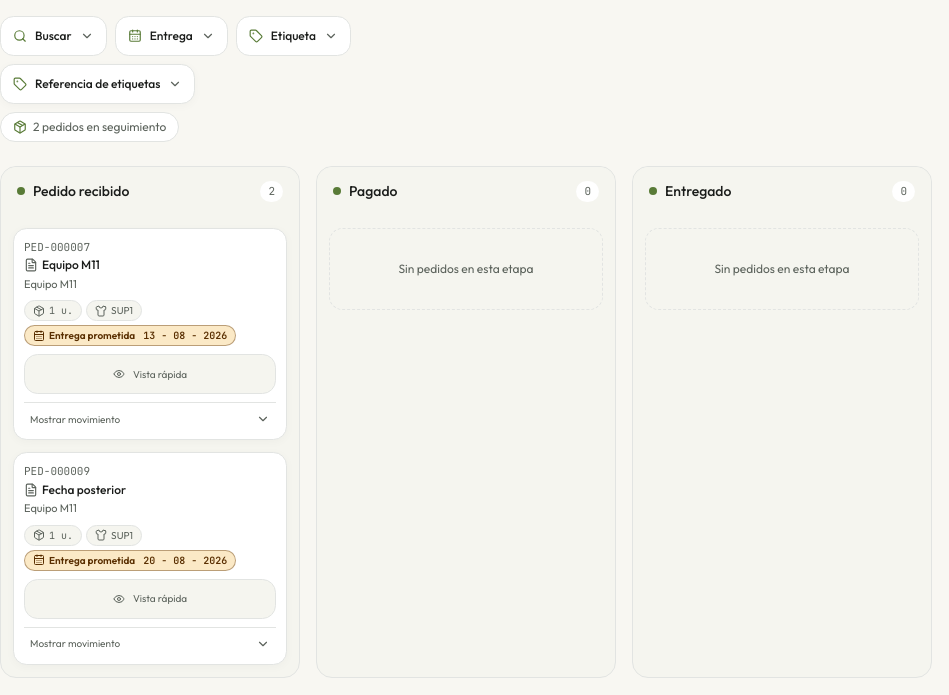
Test case: order labels › filters the board by an inclusive delivery date range
This screenshot has width=949, height=695.
Click the heading "Entrega" at (171, 36), box [115,16,228,56]
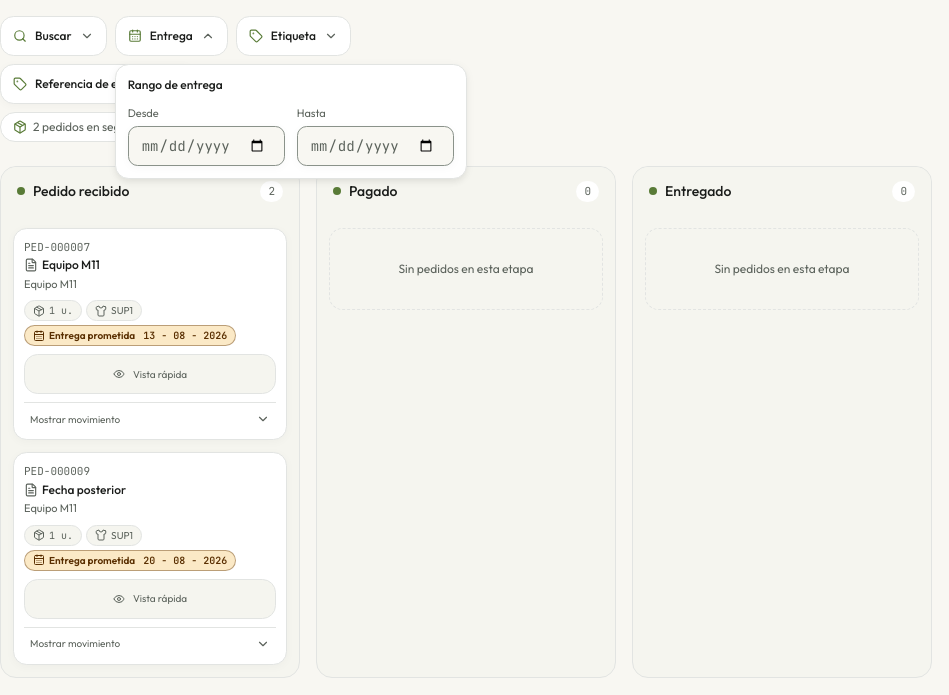
Type "2026-08-14" into the date field labelled "Desde" at (206, 146), box [128,126,285,166]
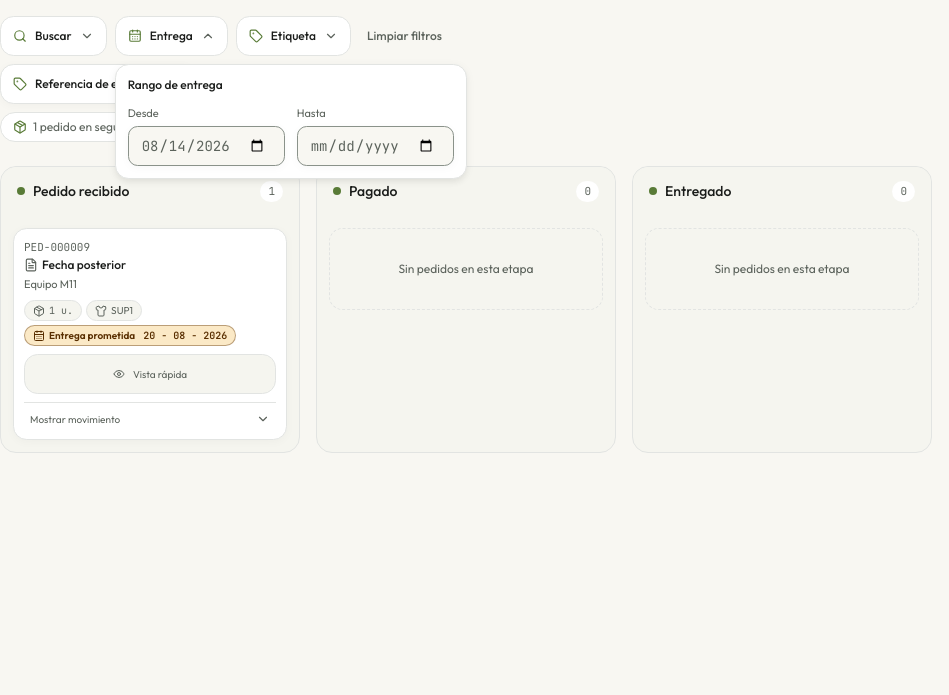
Type "2026-08-20" into the date field labelled "Hasta" at (375, 146), box [297,126,454,166]
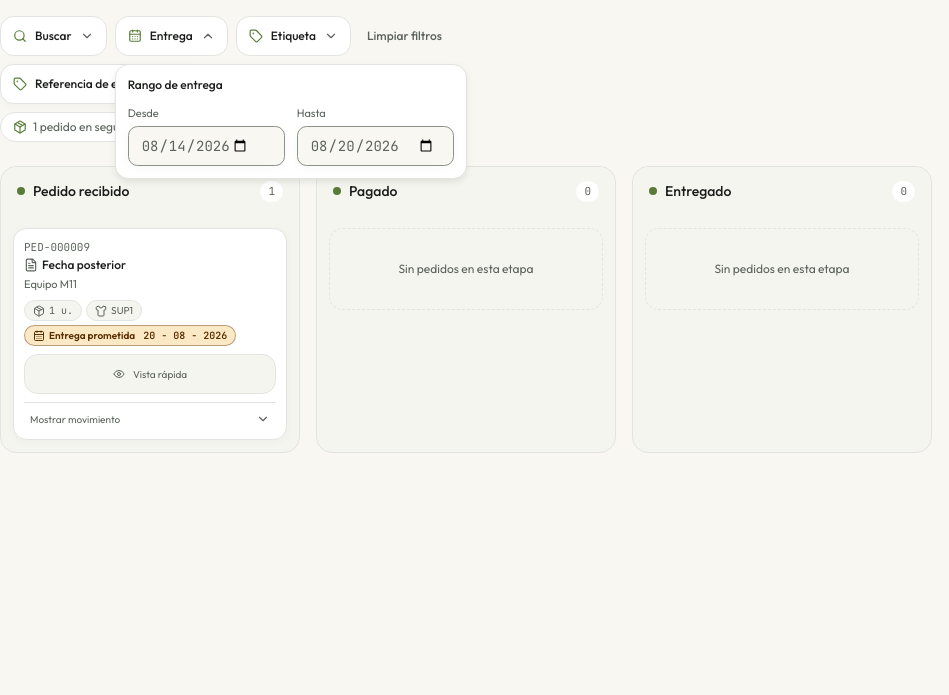
Expected: the link "Fecha posterior" is shown, [42,257,126,274]
Now the element with test id "board-count" reads "1 pedido en seguimiento", box [33,119,159,134]
Click the button "Limpiar filtros" at (404, 36), box [359,16,450,56]
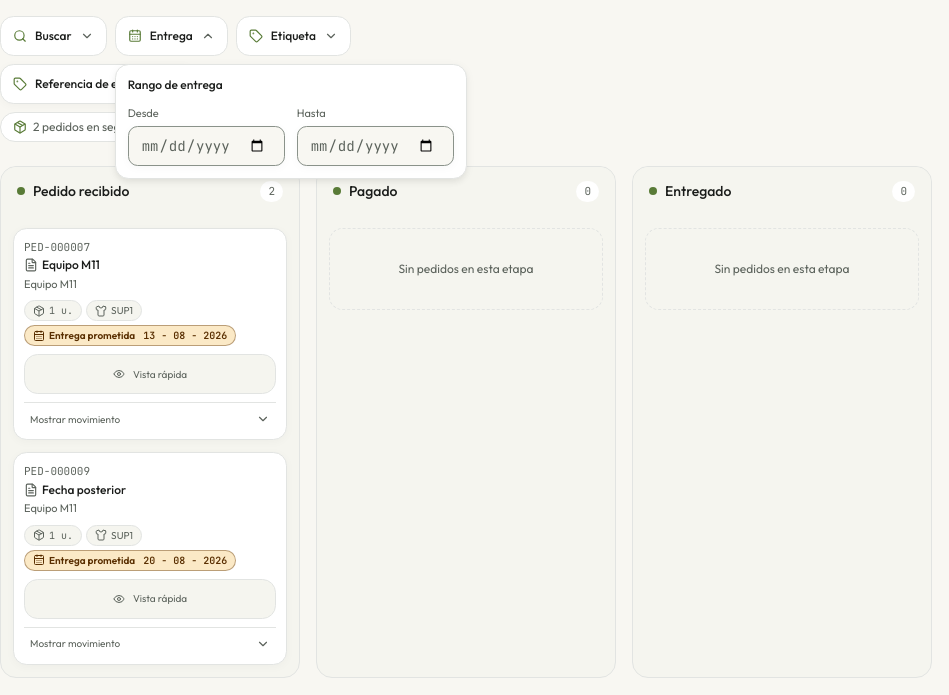
Now the element with test id "board-count" reads "2 pedidos en seguimiento", box [33,119,166,134]
